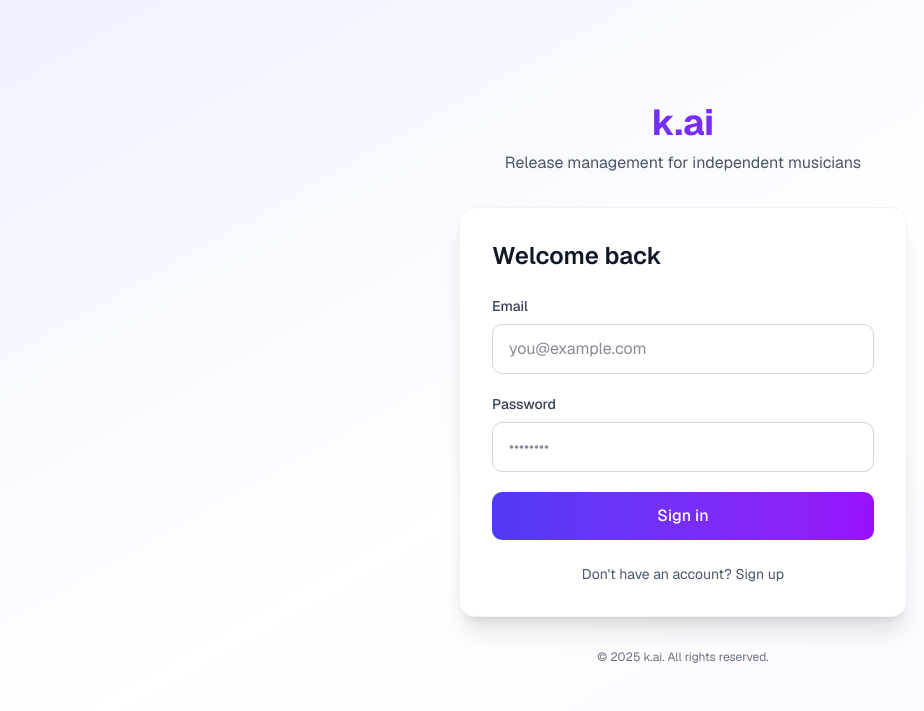
Test: LoginPage › clears error message on new submission attempt
The width and height of the screenshot is (924, 711).
# First submission with error
Type "test@example.com" into the field with placeholder "you@example.com" at (683, 349), box [492,324,874,374]
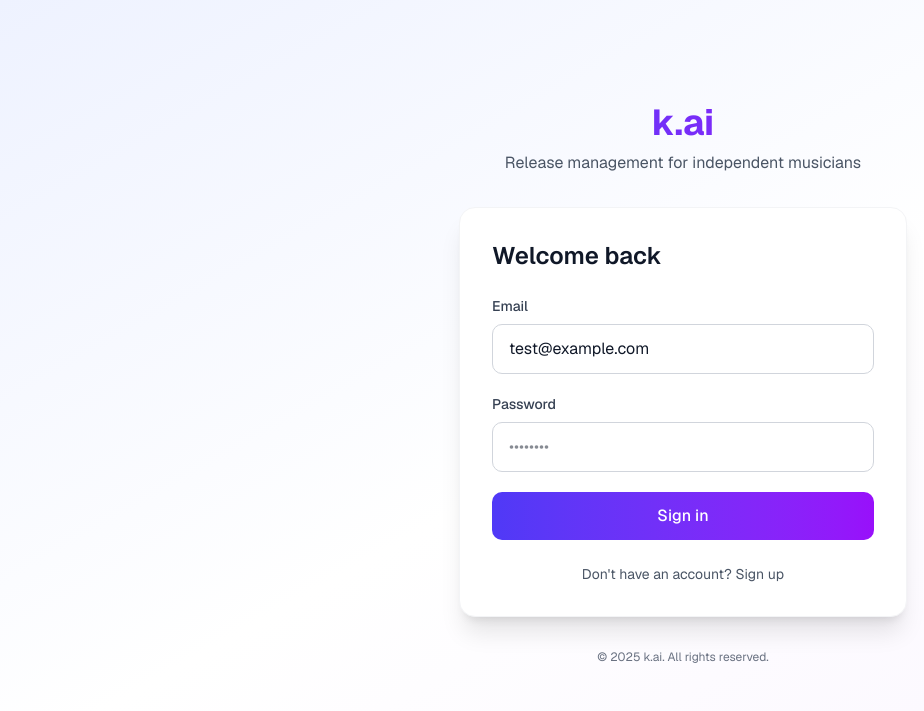
Type "wrongpassword" into the password field with placeholder "••••••••" at (683, 447), box [492,422,874,472]
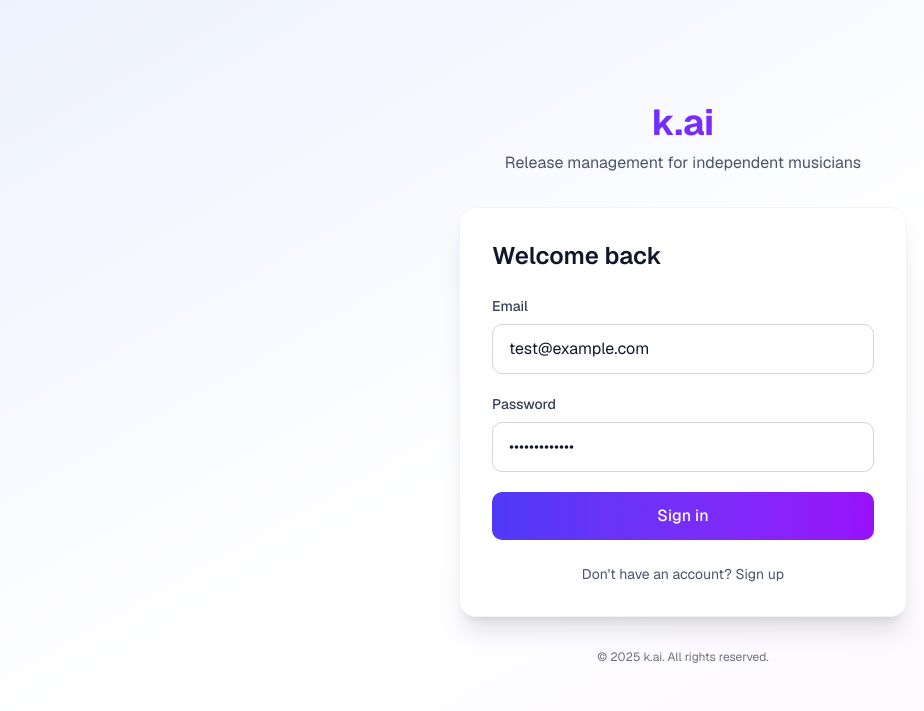
Click the button "Sign in" at (683, 516), box [492,492,874,540]
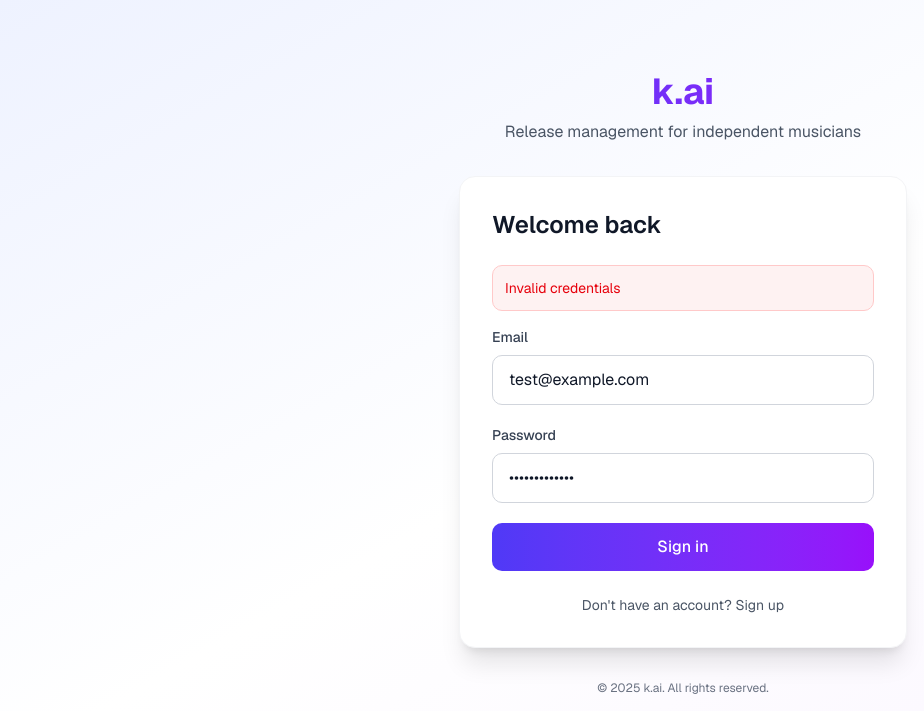
Expected: the text "Invalid credentials" is shown, [492,265,874,311]
Click the button "Sign in" at (683, 547), box [492,523,874,571]
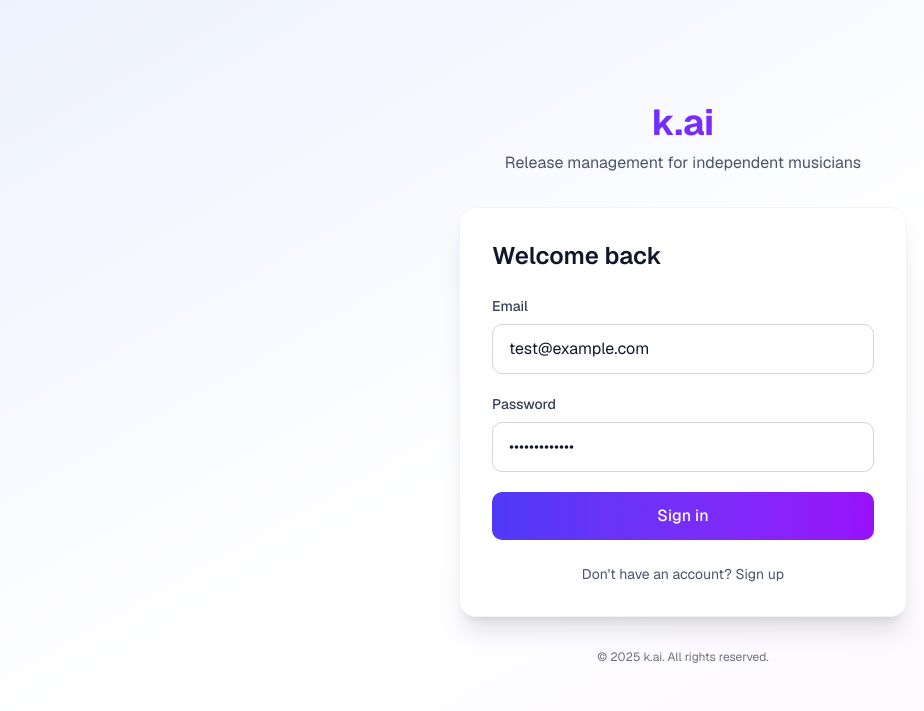
Expected: the text "Invalid credentials" is gone
